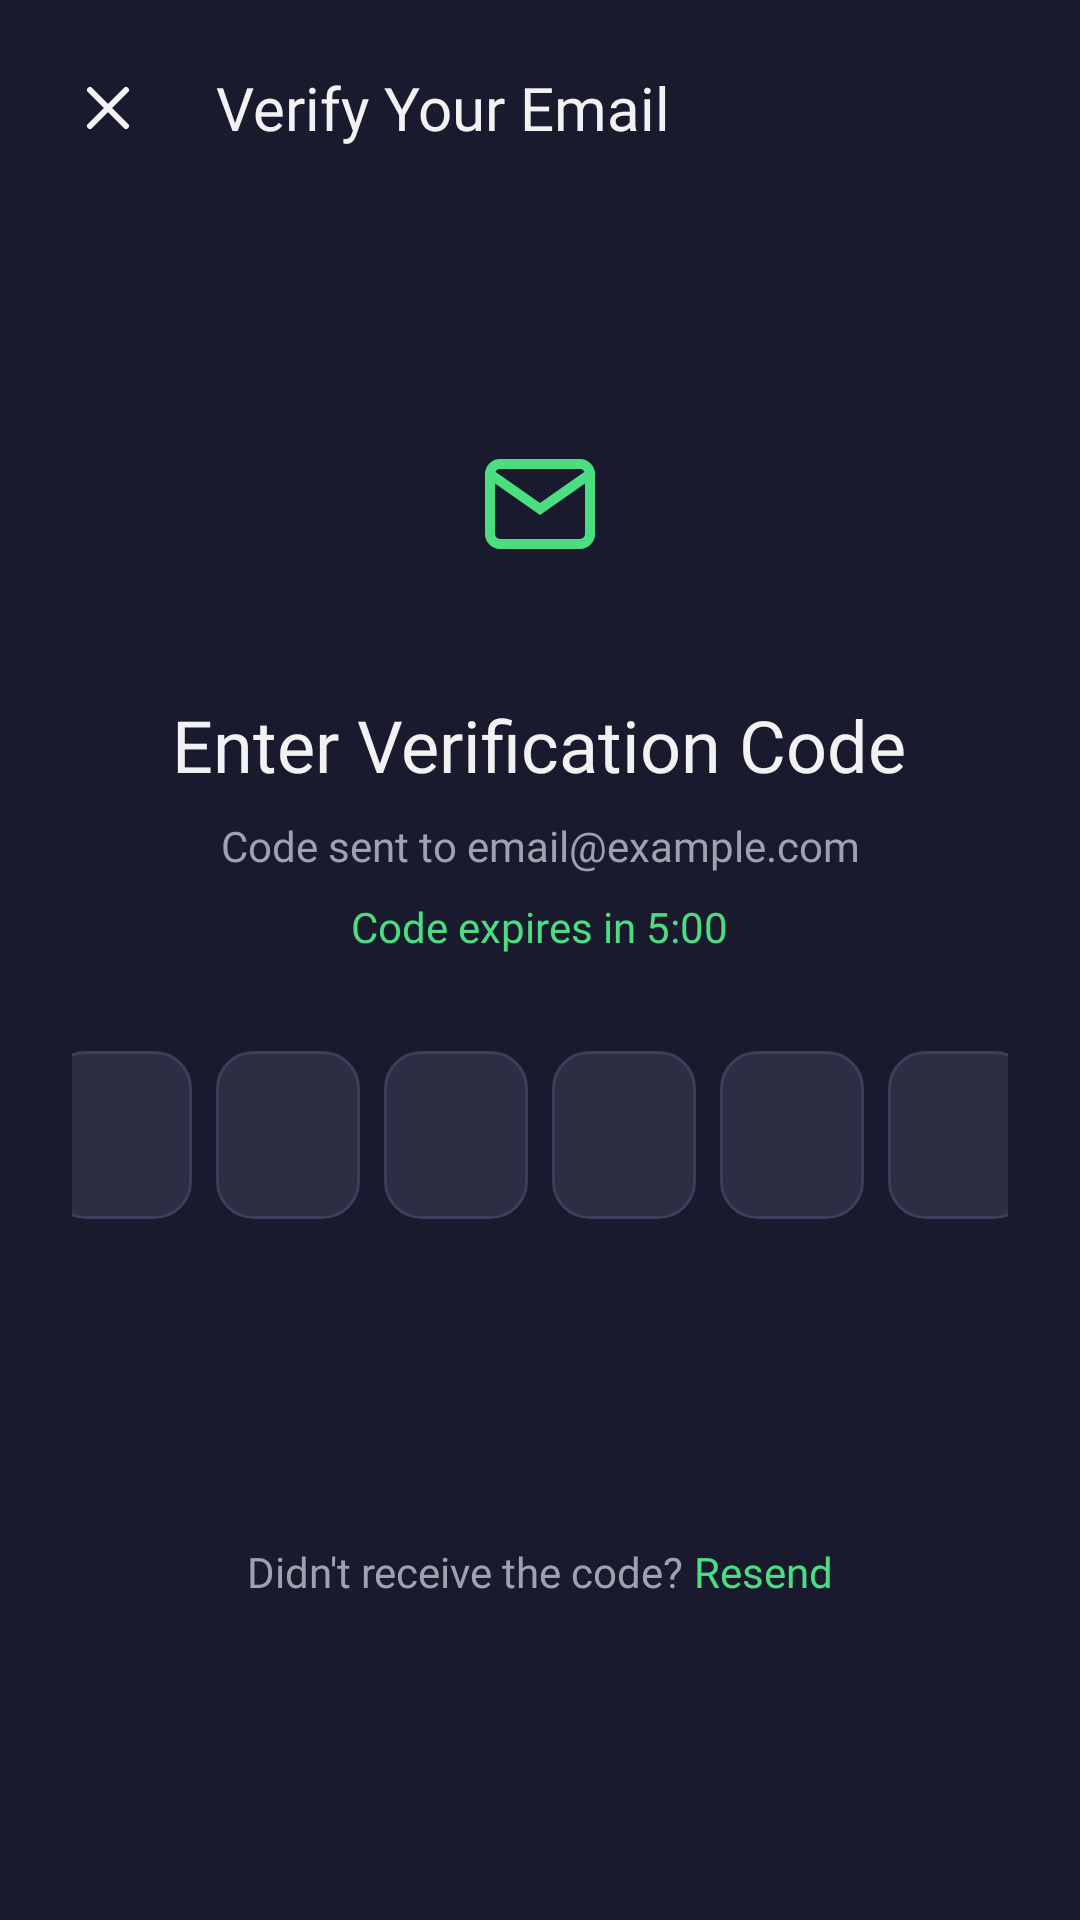

Where to tap for icons on this 1080×1920 app screen, as point (x, y):
mail: point (540, 504)
